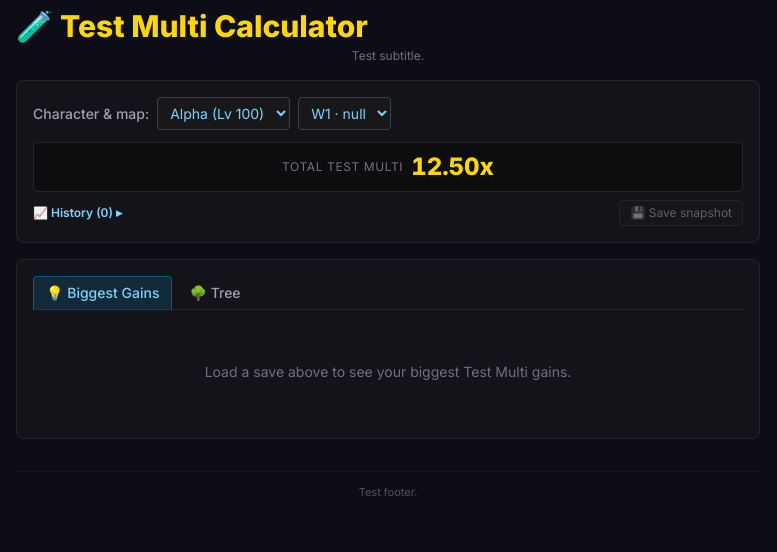
Test case: StatPageClient — the tracker header › reference toggle › without refToggle there is no checkbox
Click the button "🌳 Tree": (215, 293) [176,276,254,310]
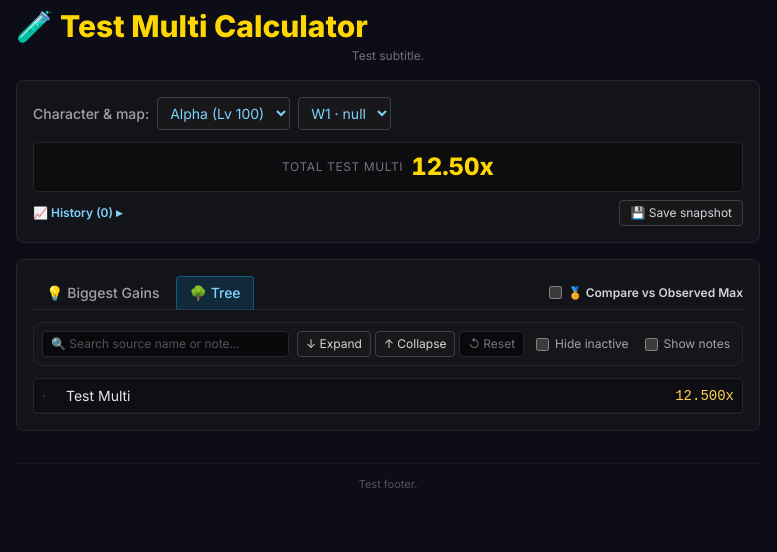
Click the checkbox labelled "🏅 Compare vs Observed Max": (555, 292) [549,286,562,299]
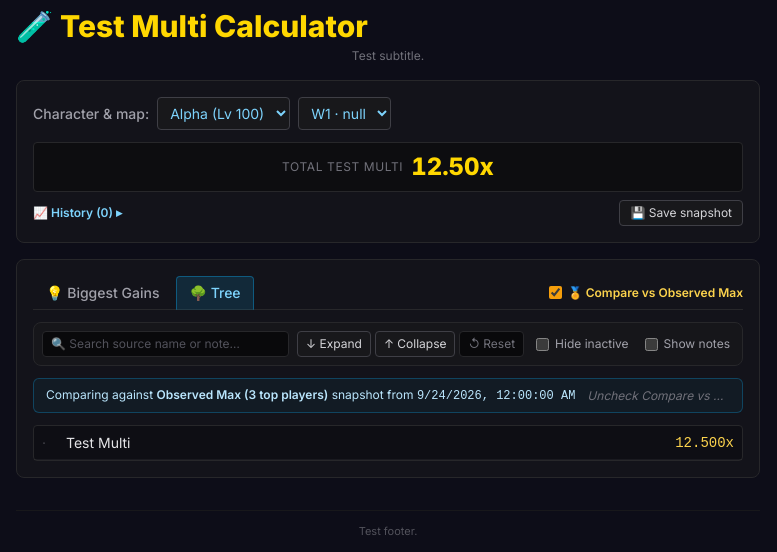
Check: the text "Observed Max (3 top players)" is shown, box [156,387,328,402]
